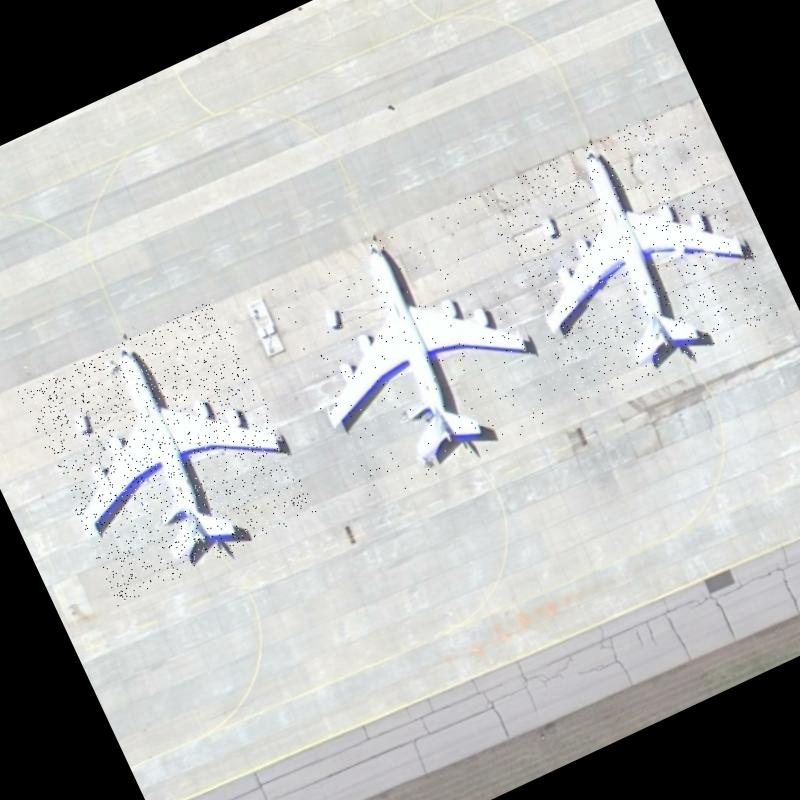A11: (264, 194, 570, 507), (478, 98, 782, 410), (17, 297, 317, 606)
